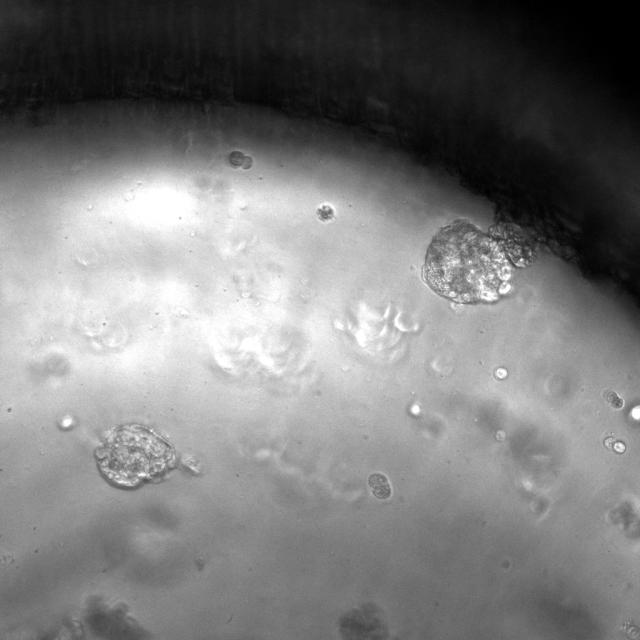organoid: (422, 219, 538, 303), (94, 423, 176, 488), (84, 595, 151, 639), (339, 602, 388, 639), (608, 500, 639, 539), (368, 473, 391, 499), (228, 150, 252, 168), (603, 435, 626, 453), (621, 620, 639, 639), (606, 391, 623, 409), (317, 204, 334, 220), (494, 366, 508, 380), (494, 429, 506, 441)
